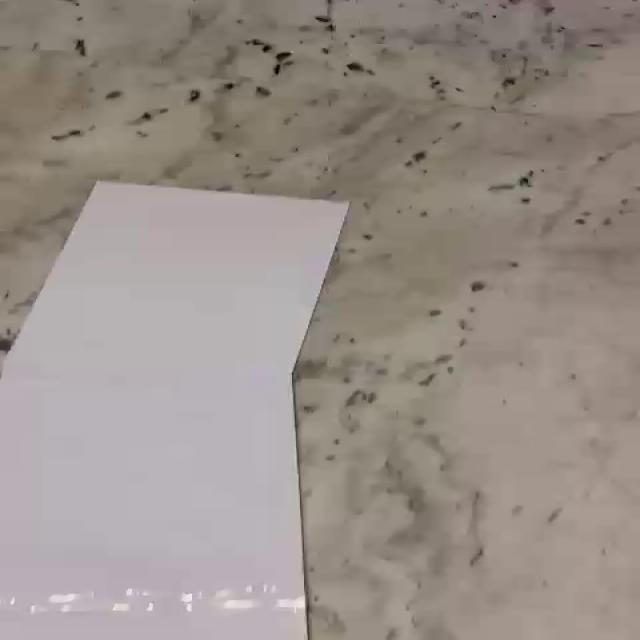road: (1, 182, 348, 640)
